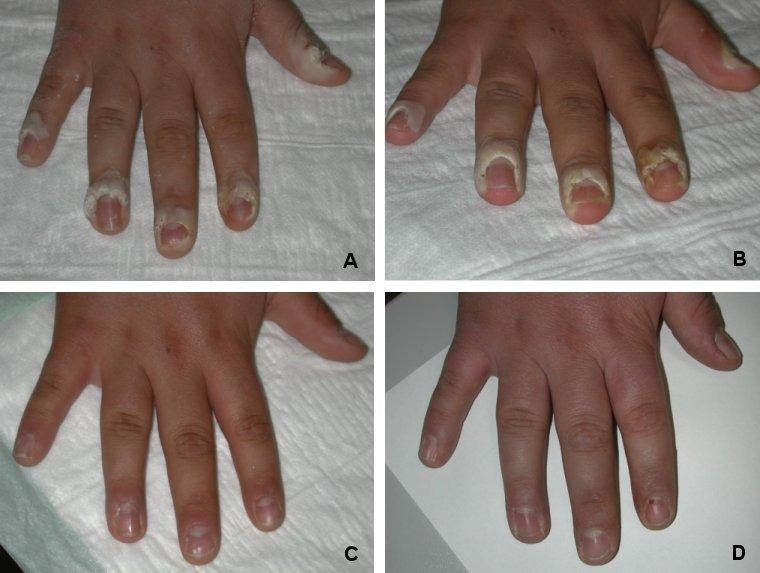Warts: (84, 172, 266, 262), (283, 19, 359, 99), (14, 107, 66, 172)
